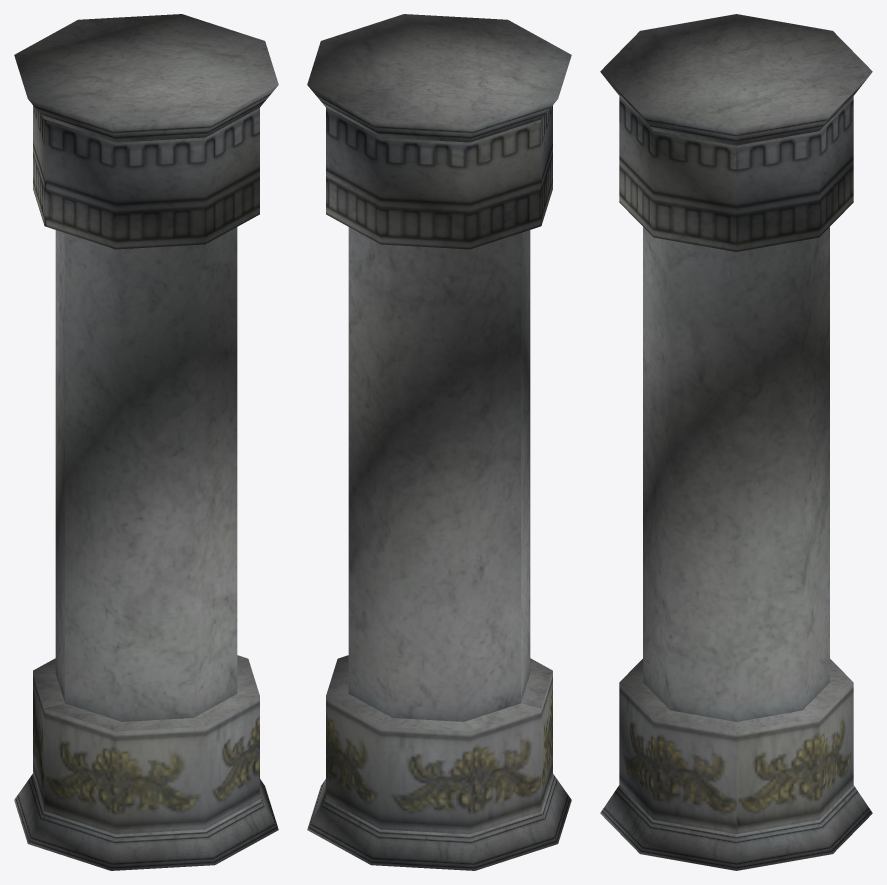
Rendered from pillar_01.glb.
3 renders of one model, left to right at view 1: azimuth 30°, elevation 25°; view 2: azimuth 150°, elevation 25°; view 3: azimuth 270°, elevation 25°, orthographic.
Parts seen in each view (by area): view 1: pillar_01; view 2: pillar_01; view 3: pillar_01.
Boxes of the visible parts, <box> form: pillar_01: <box>14,14,278,870</box>; pillar_01: <box>307,14,571,870</box>; pillar_01: <box>600,14,872,870</box>.
Bounding box in the file's own units: 1 × 3 × 1.
1 material, 1 textured.
